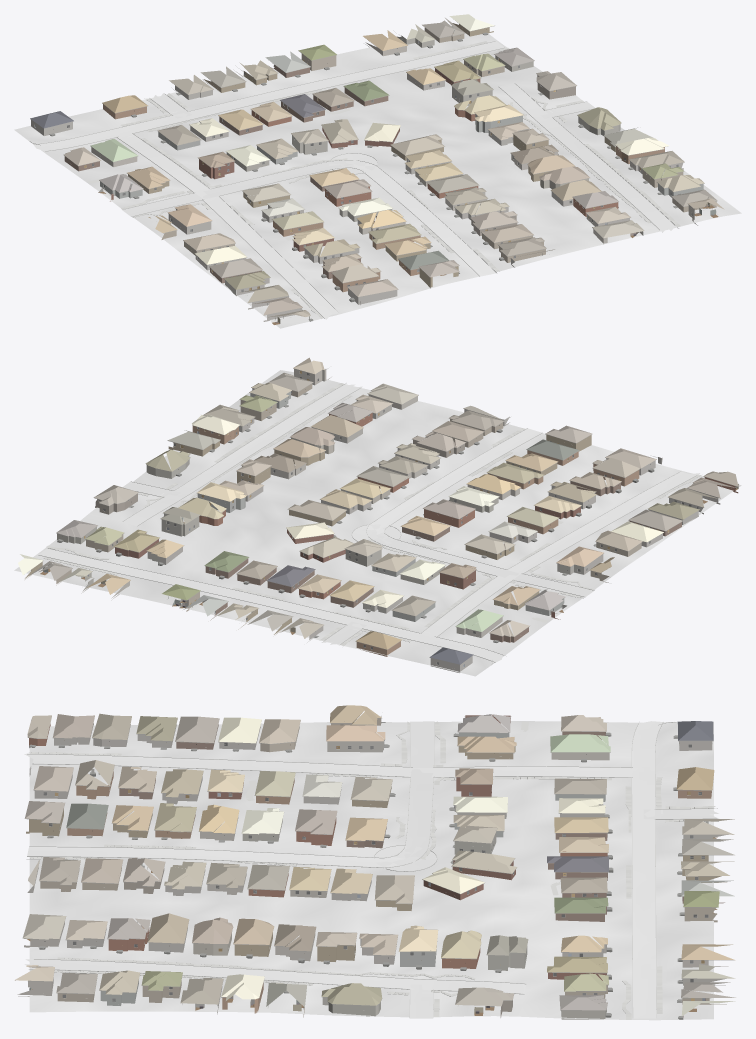
3 views of the same model, one above another, from view 1: azimuth 30°, elevation 25°; view 2: azimuth 150°, elevation 25°; view 3: azimuth 270°, elevation 25° (orthographic). The views are drawn at different scales.
Parts seen in each view (by area): view 1: ground, roof, concrete, wall, detail, wall_stucco, wall_stone, walk, curb, glass; view 2: ground, roof, concrete, wall, wall_stucco, detail, curb, walk, wall_stone, glass; view 3: ground, roof, concrete, wall, wall_stucco, detail, walk, wall_stone, curb, glass.
Part boxes in pixels (x1,y1,x2,y2): ground: (14,29,741,328); roof: (30,14,724,317); concrete: (34,41,675,319); wall: (64,23,716,292); detail: (30,22,717,321); wall_stucco: (91,35,703,255); wall_stone: (31,73,683,321); walk: (88,41,680,318); curb: (29,41,678,318); glass: (67,64,692,291); ground: (14,370,741,676); roof: (18,357,738,664); concrete: (39,384,699,662); wall: (25,383,738,656); wall_stucco: (57,369,641,637); detail: (31,368,738,667); curb: (38,383,699,664); walk: (44,383,700,645); wall_stone: (147,400,720,672); glass: (88,373,698,664); ground: (29,721,713,1020); roof: (14,705,735,1015); concrete: (24,721,719,1018); wall: (26,715,726,1017); wall_stucco: (17,726,728,1019); detail: (15,716,734,1019); walk: (29,721,715,1019); wall_stone: (27,723,725,1014); curb: (26,721,718,1018); glass: (43,724,708,1008).
Size of the model in its own units: 258 by 13.48 by 266.
